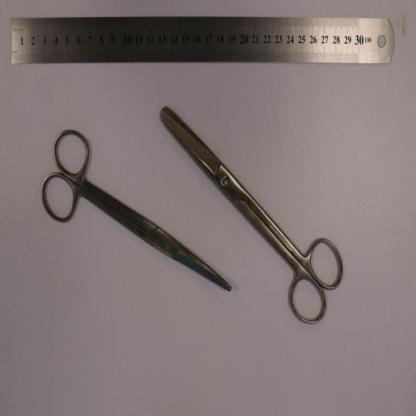Curved Mayo Scissors: (41, 124, 233, 294)
Dressing Scissors: (159, 104, 346, 327)
